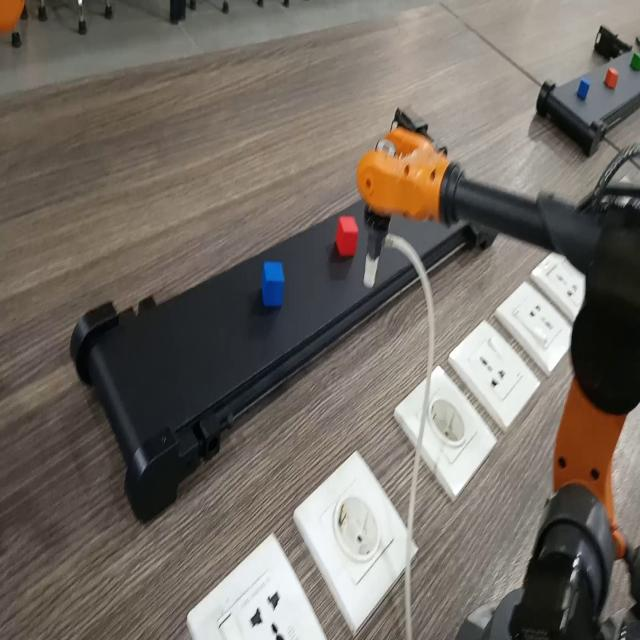cube: (260, 254, 295, 311), (332, 211, 361, 258), (604, 65, 620, 92), (577, 77, 590, 102), (630, 51, 640, 72)
